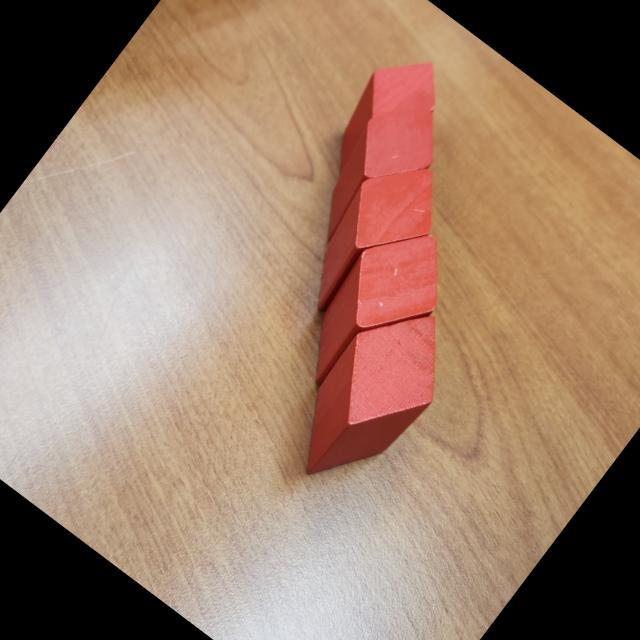red: (271, 284, 474, 508), (281, 206, 471, 416), (286, 142, 462, 336), (293, 82, 458, 265), (310, 38, 458, 200)
